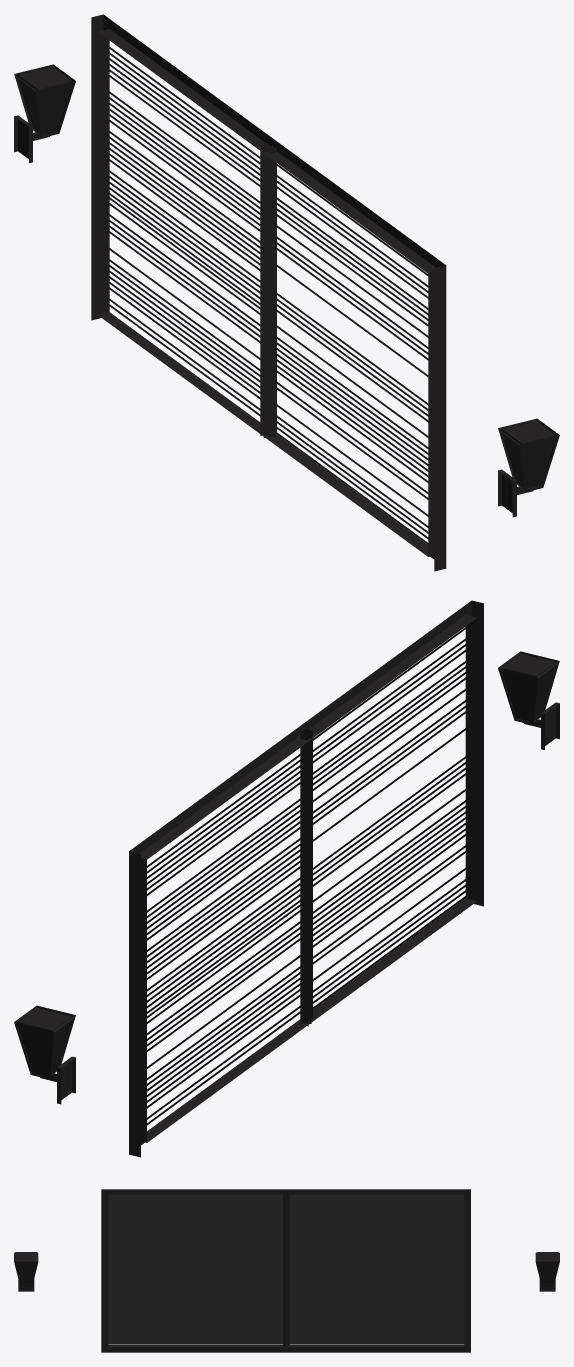
The model's file is M_BRchuang04.FBX.
3 views of the same model, one above another, from view 1: azimuth 30°, elevation 25°; view 2: azimuth 150°, elevation 25°; view 3: azimuth 270°, elevation 25° (orthographic). The views are drawn at different scales.
Parts seen in each view (by area): view 1: M_BRchuang04_02, M_BRchuang04_01, M_BRchuang04_04, M_BRchuang04_03; view 2: M_BRchuang04_02, M_BRchuang04_01, M_BRchuang04_04, M_BRchuang04_03; view 3: M_BRchuang04_02, M_BRchuang04_01, M_BRchuang04_04, M_BRchuang04_03.
Boxes of the visible parts, x1,y1,x2,y2 form: M_BRchuang04_02: (103,42,428,544); M_BRchuang04_01: (91,14,446,571); M_BRchuang04_04: (17,67,556,488); M_BRchuang04_03: (14,64,559,517); M_BRchuang04_02: (147,622,471,1125); M_BRchuang04_01: (129,600,483,1157); M_BRchuang04_04: (17,654,556,1075); M_BRchuang04_03: (14,651,559,1104); M_BRchuang04_02: (108,1194,464,1343); M_BRchuang04_01: (101,1189,470,1352); M_BRchuang04_04: (15,1252,558,1286); M_BRchuang04_03: (14,1252,559,1291).
Size of the model in its own units: 0.4254 by 2.77 by 8.39.
